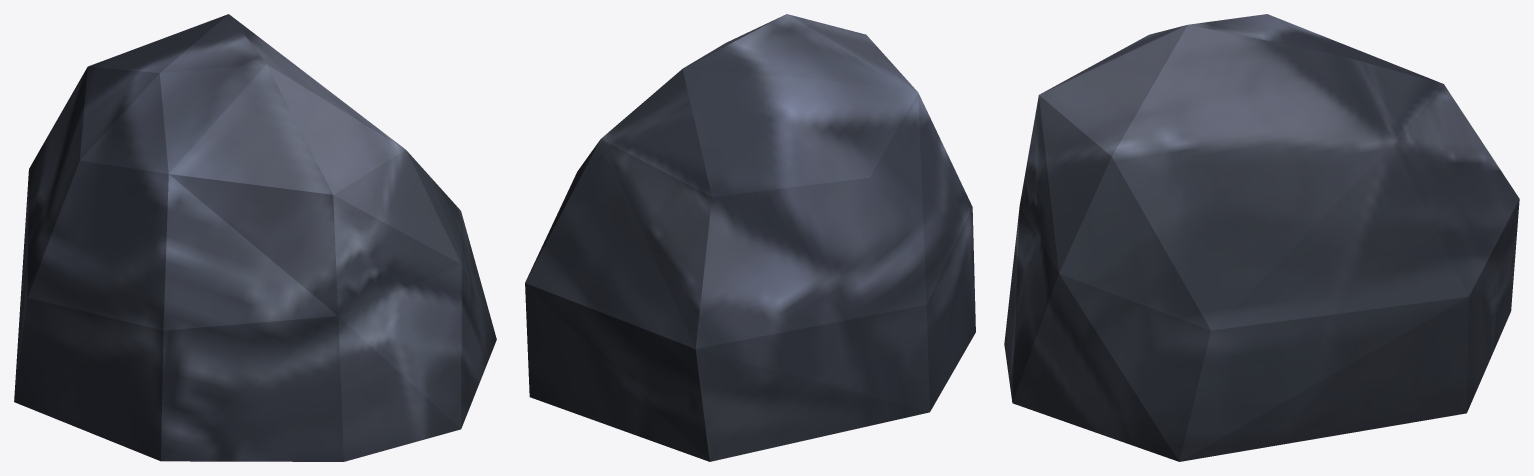
File: OutdoorM_Boulder_c.FBX
3 views of the same model, side by side, from view 1: azimuth 30°, elevation 25°; view 2: azimuth 150°, elevation 25°; view 3: azimuth 270°, elevation 25° (orthographic). The views are drawn at different scales.
Parts seen in each view (by area): view 1: OutdoorM_Boulder_c; view 2: OutdoorM_Boulder_c; view 3: OutdoorM_Boulder_c.
Part boxes in pixels (x1,y1,x2,y2): OutdoorM_Boulder_c: (14,14,496,461); OutdoorM_Boulder_c: (525,14,975,461); OutdoorM_Boulder_c: (1004,14,1519,461).
Bounding box in the file's own units: 9.06 × 6.65 × 9.5.
